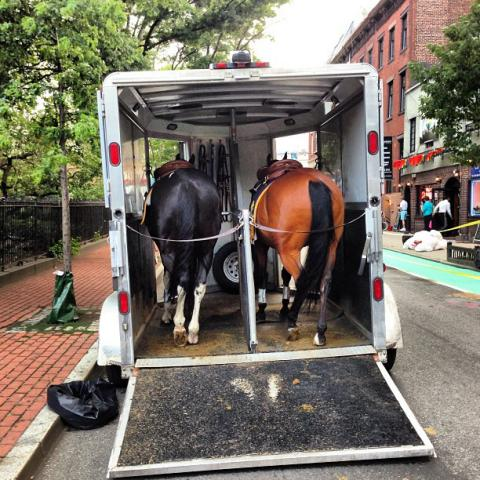truck: (97, 54, 434, 479)
